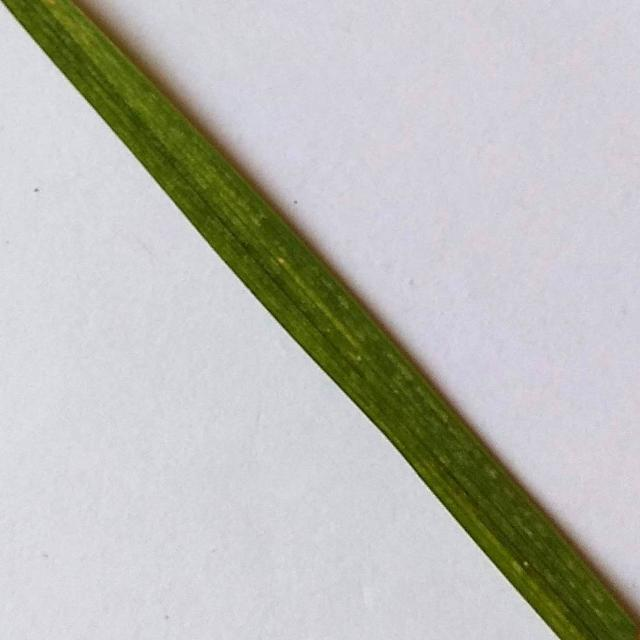Rice_Healthy: (2, 0, 640, 640)
